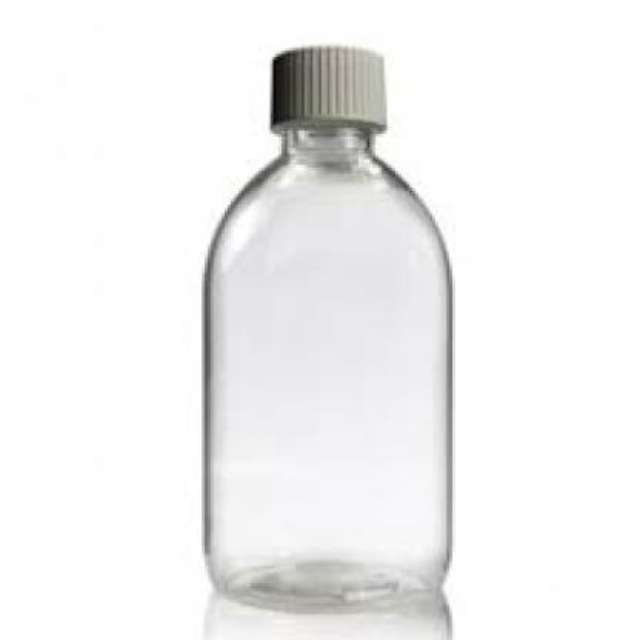trash: (205, 46, 451, 638)
